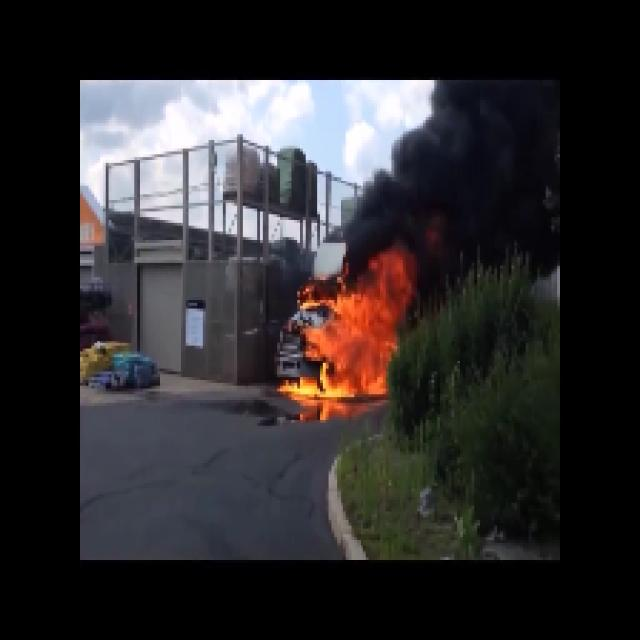fire: (315, 272, 404, 408)
smoke: (430, 79, 557, 277), (348, 157, 422, 249)
